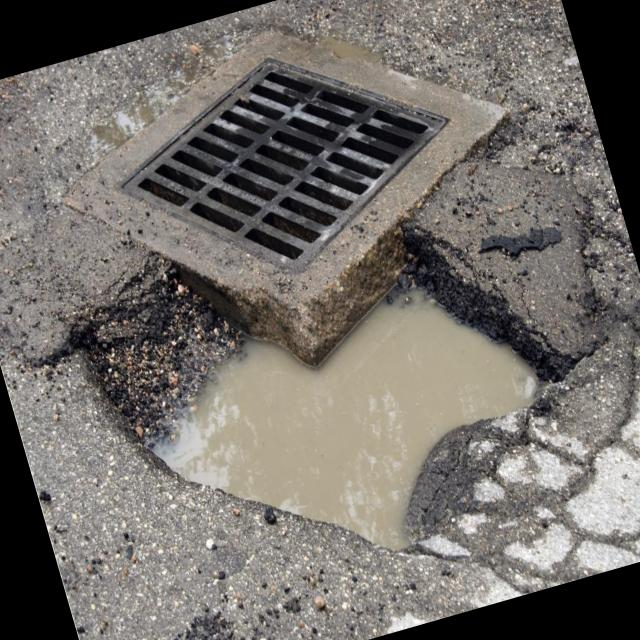Potholes: (62, 125, 640, 640)
